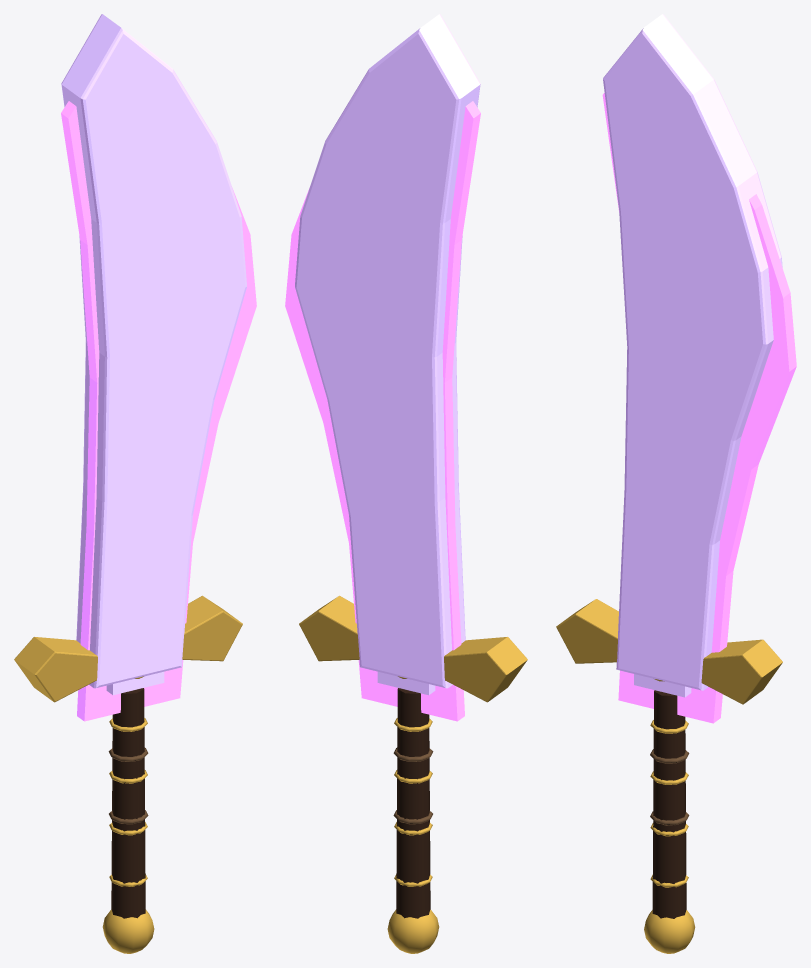
The model's file is greatsword_f5_9adc966d.glb.
The picture shows the model from 3 angles, left to right: view 1: azimuth 30°, elevation 25°; view 2: azimuth 150°, elevation 25°; view 3: azimuth 330°, elevation 25°; orthographic projection.
Parts seen in each view (by area): view 1: m3_ow80_, m0_, m4_ow80_, m2_ow80_; view 2: m3_ow80_, m0_, m4_ow80_, m2_ow80_; view 3: m3_ow80_, m0_, m4_ow80_, m2_ow80_.
Part boxes in pixels (x1=…): m3_ow80_: x1=61, y1=14, x2=246, y2=695; m0_: x1=61, y1=101, x2=256, y2=721; m4_ow80_: x1=14, y1=595, x2=242, y2=953; m2_ow80_: x1=111, y1=688, x2=145, y2=918; m3_ow80_: x1=295, y1=14, x2=480, y2=695; m0_: x1=285, y1=101, x2=480, y2=721; m4_ow80_: x1=299, y1=595, x2=527, y2=953; m2_ow80_: x1=396, y1=688, x2=430, y2=918; m3_ow80_: x1=603, y1=14, x2=782, y2=697; m0_: x1=602, y1=93, x2=796, y2=723; m4_ow80_: x1=556, y1=599, x2=782, y2=953; m2_ow80_: x1=652, y1=690, x2=686, y2=918.
Size of the model in its own units: 0.8454 by 3.3 by 0.1583.
